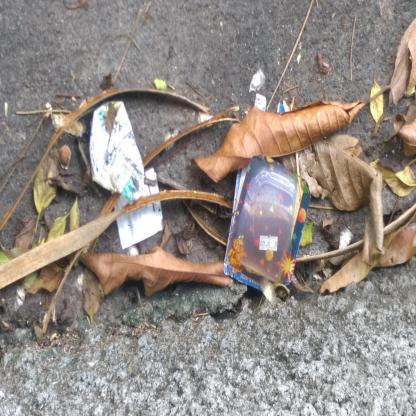diger: (90, 99, 146, 206)
karton: (225, 156, 311, 294)
